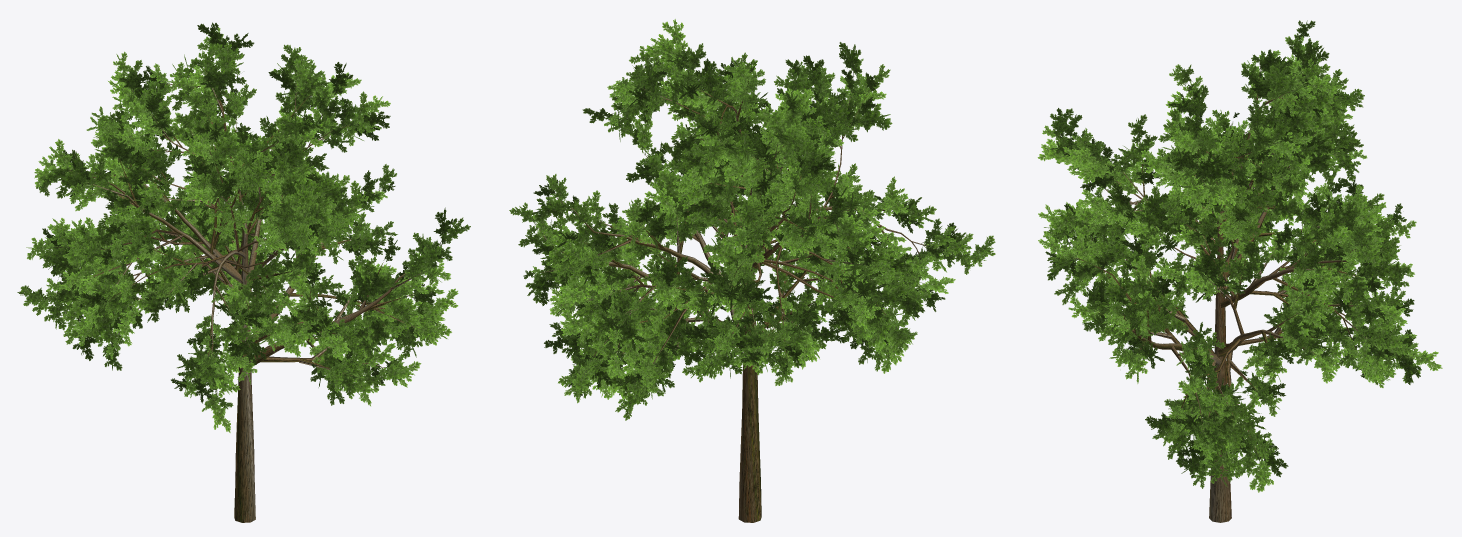
The model's file is SM_BroadTree_C_ez.gltf.
The picture shows the model from 3 angles, left to right: view 1: azimuth 30°, elevation 25°; view 2: azimuth 150°, elevation 25°; view 3: azimuth 270°, elevation 25°; orthographic projection. The views are drawn at different scales.
Visible parts, largest first — view 1: SM_BroadTree_C_ez; view 2: SM_BroadTree_C_ez; view 3: SM_BroadTree_C_ez.
Boxes of the visible parts, x1,y1,x2,y2 form: SM_BroadTree_C_ez: [17, 22, 470, 522]; SM_BroadTree_C_ez: [509, 19, 995, 522]; SM_BroadTree_C_ez: [1037, 20, 1442, 522].
Bounding box in the file's own units: 5.41 × 6 × 4.76.
2 materials, 2 textured.
